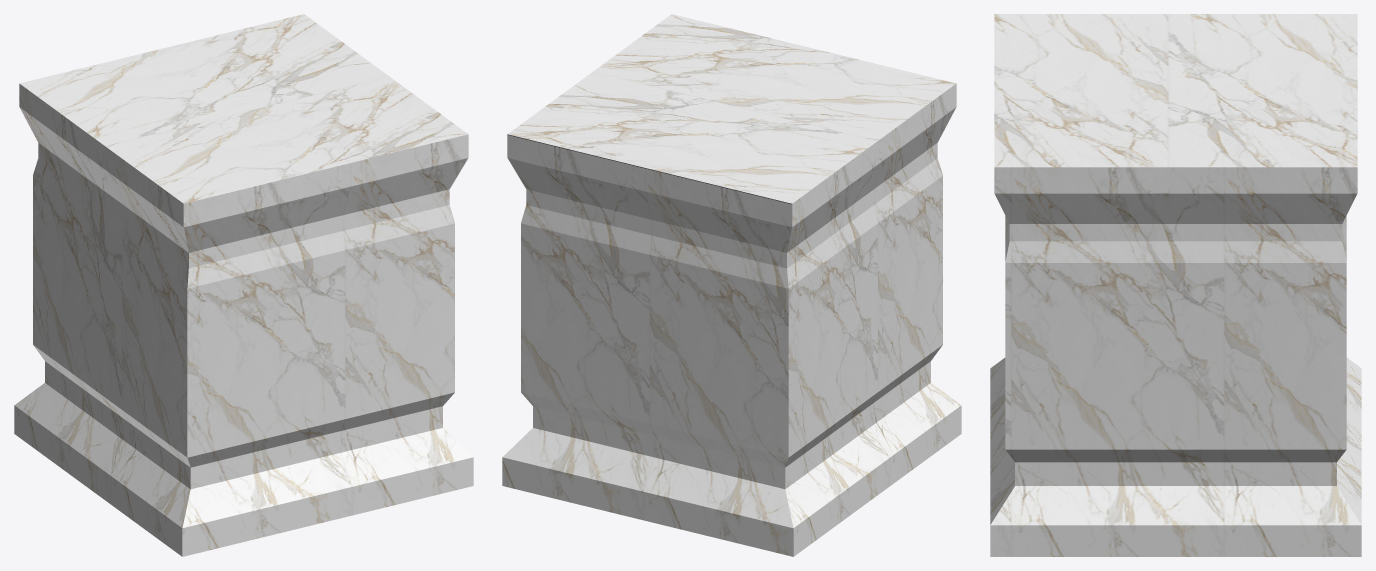
Rendered from kaide_1.fbx.
3 views of the same model, side by side, from view 1: azimuth 30°, elevation 25°; view 2: azimuth 150°, elevation 25°; view 3: azimuth 270°, elevation 25° (orthographic). The views are drawn at different scales.
Parts seen in each view (by area): view 1: Kaıde_1; view 2: Kaıde_1; view 3: Kaıde_1.
Part boxes in pixels (left/top/right/bottom): Kaıde_1: left=14, top=14, right=473, bottom=556; Kaıde_1: left=502, top=14, right=961, bottom=556; Kaıde_1: left=990, top=14, right=1361, bottom=556.
Size of the model in its own units: 1884 by 2171 by 1884.
